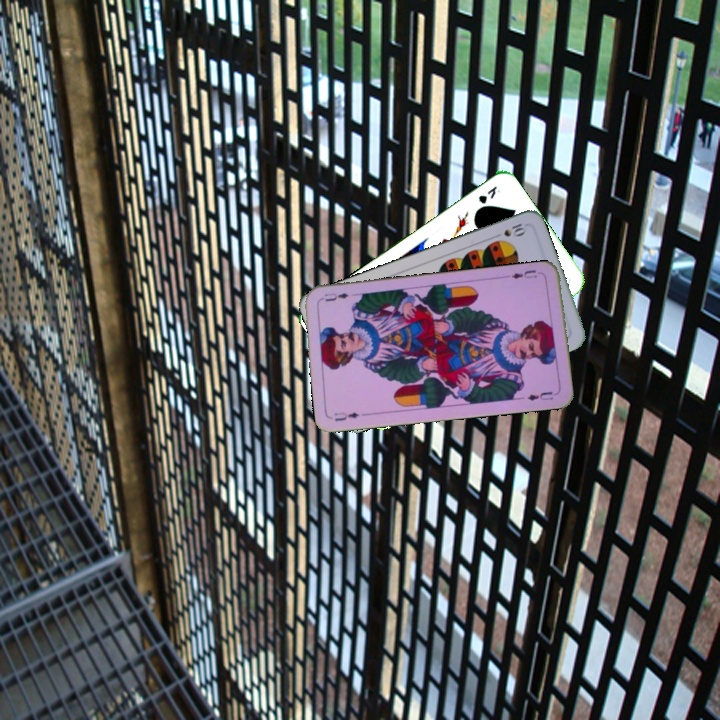EU: (330, 408, 361, 424), (508, 266, 539, 281)
GK: (474, 182, 500, 206)
S10: (490, 219, 529, 241)
